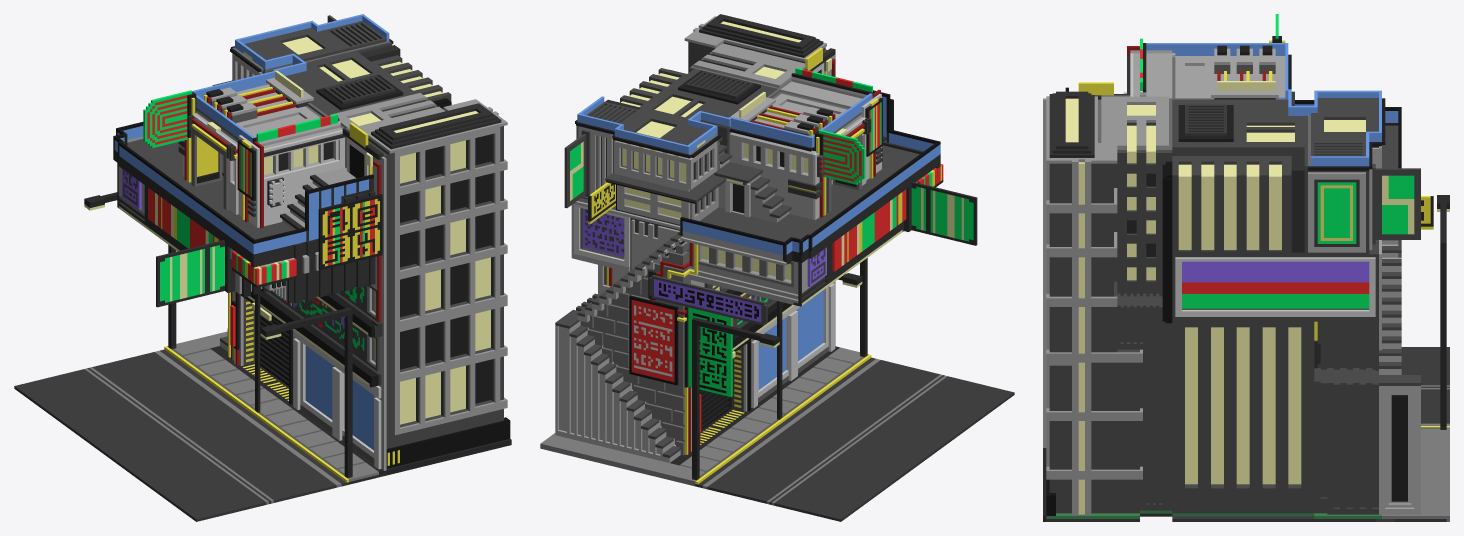
Rendered from street3-1.obj.
3 views of the same model, side by side, from view 1: azimuth 30°, elevation 25°; view 2: azimuth 150°, elevation 25°; view 3: azimuth 270°, elevation 25° (orthographic). The views are drawn at different scales.
Visible parts, largest first — view 1: street3-1; view 2: street3-1; view 3: street3-1.
Part boxes in pixels (box(x1,y1,x2,y2)): street3-1: box(14, 14, 511, 521); street3-1: box(540, 14, 1014, 521); street3-1: box(1043, 14, 1449, 521).
Size of the model in its own units: 126 by 126 by 126.
Materials: 1 (1 with a texture image).
